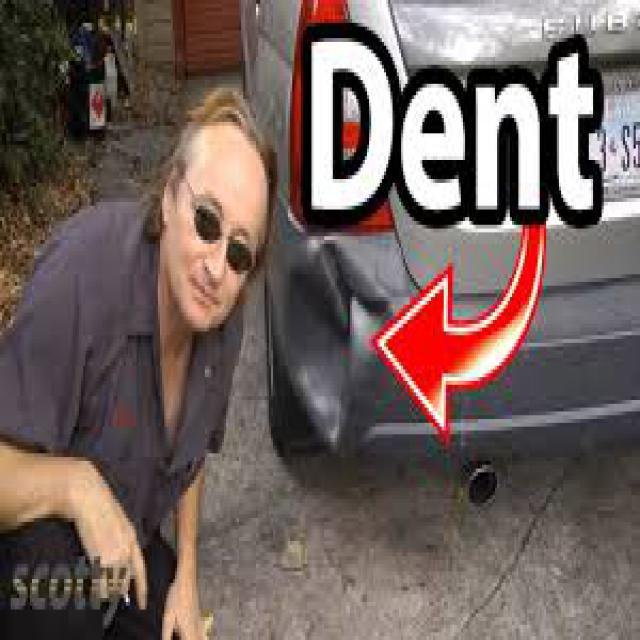rear-bumper-dent: (254, 194, 516, 479)
